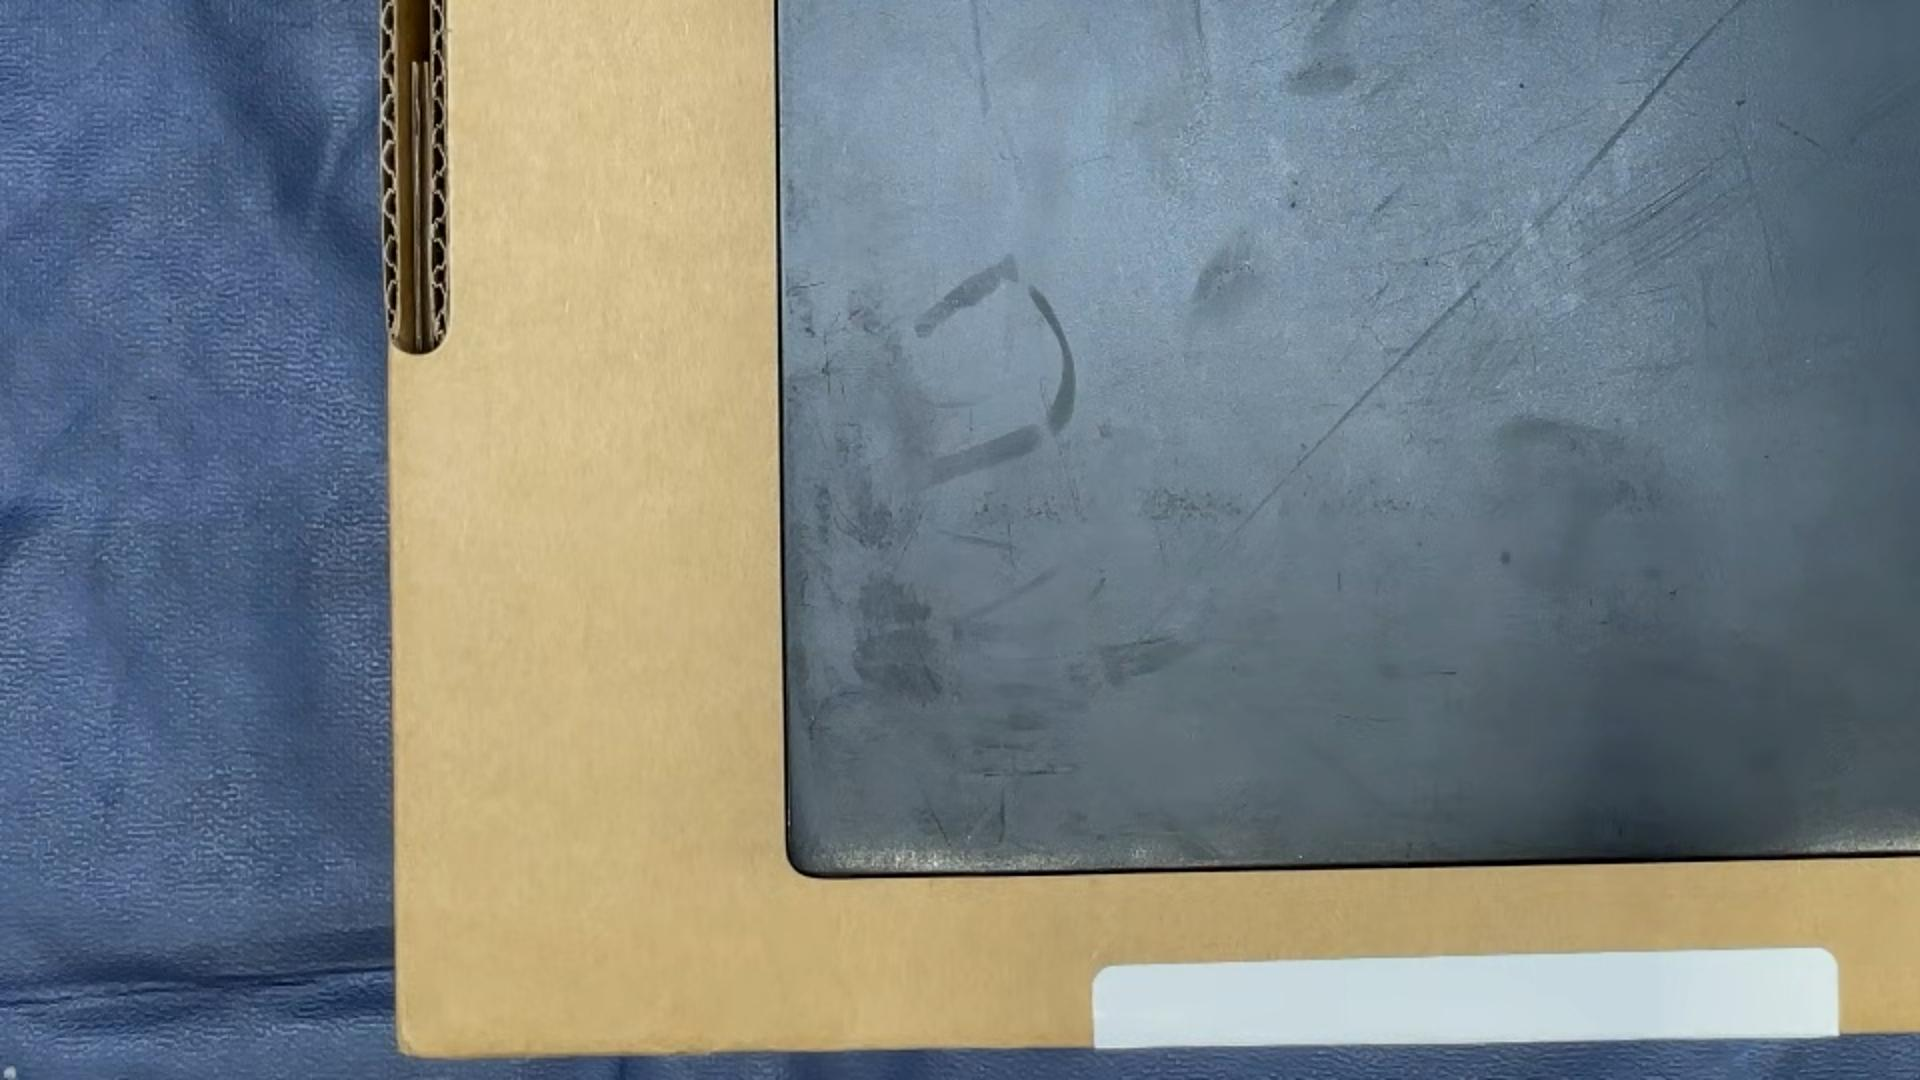scratches: (1213, 0, 1762, 556), (1538, 175, 1746, 335), (1485, 240, 1540, 373), (1619, 154, 1722, 225), (1730, 125, 1774, 277), (1373, 228, 1513, 272), (1038, 378, 1081, 516), (1626, 185, 1696, 235), (967, 0, 994, 123), (893, 501, 928, 575), (1567, 229, 1625, 270), (1775, 117, 1822, 149), (1627, 277, 1696, 298), (835, 501, 865, 543), (924, 802, 952, 848), (994, 789, 1006, 848), (823, 328, 832, 398), (982, 770, 1058, 778), (1006, 520, 1017, 568), (787, 280, 827, 290), (800, 567, 810, 607), (1424, 670, 1458, 675), (1336, 571, 1342, 595), (969, 406, 975, 435), (1734, 98, 1749, 107)
